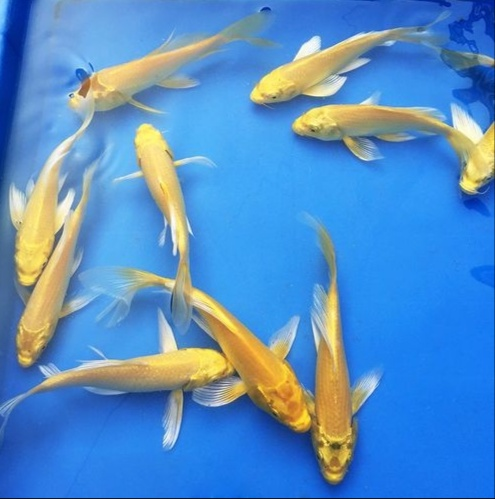fry: (295, 223, 382, 498), (43, 19, 273, 122), (244, 12, 488, 107), (190, 279, 318, 452), (19, 337, 234, 433), (4, 213, 110, 379), (122, 110, 205, 285), (1, 124, 87, 291), (291, 88, 462, 162), (438, 91, 494, 210)
